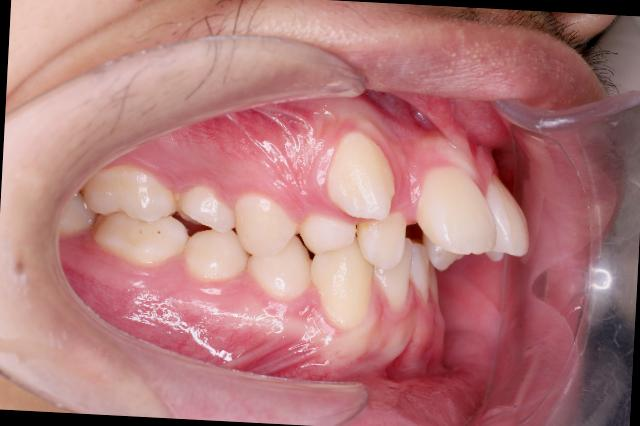molar class I: (76, 159, 191, 276)
